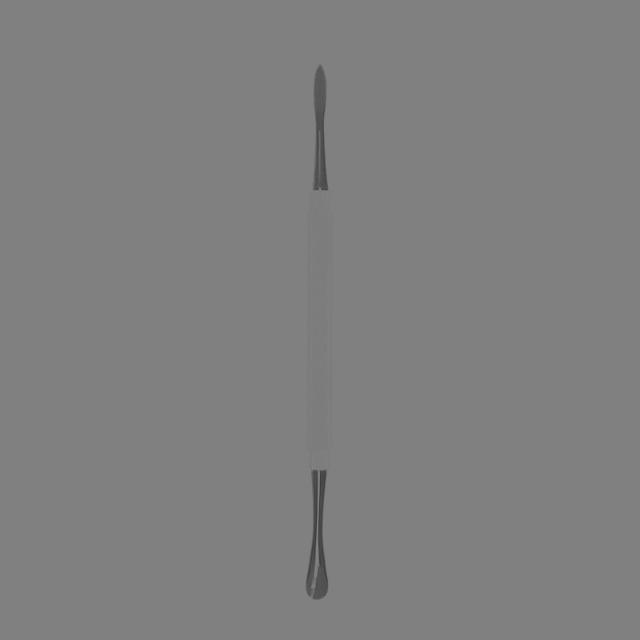elevador: (303, 67, 340, 606)
